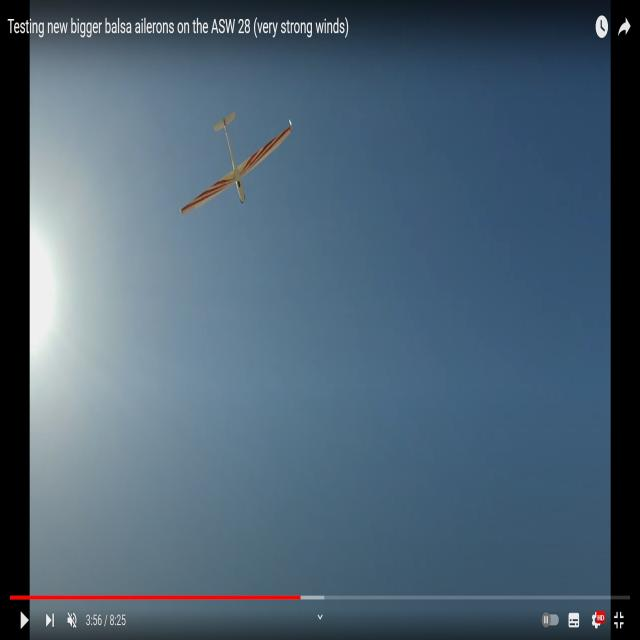iha: (212, 148, 262, 181)
